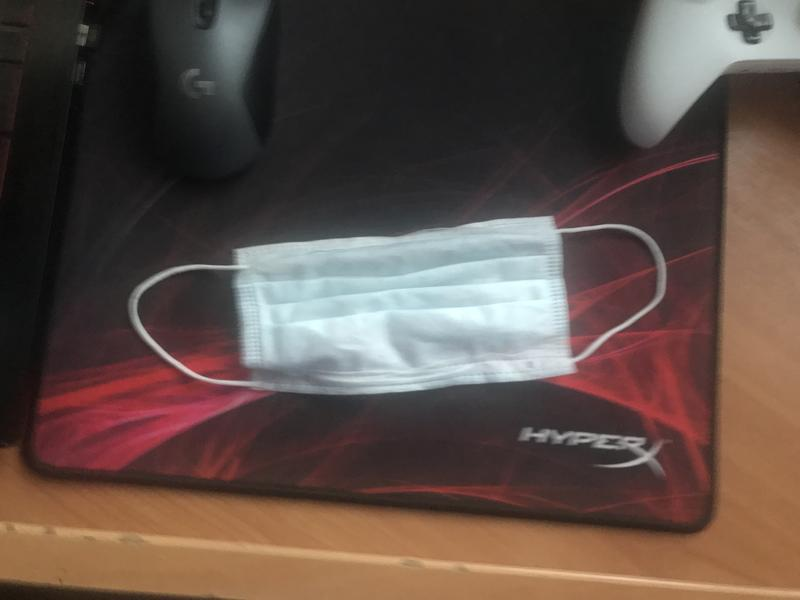medical_mask: (132, 233, 666, 394)
